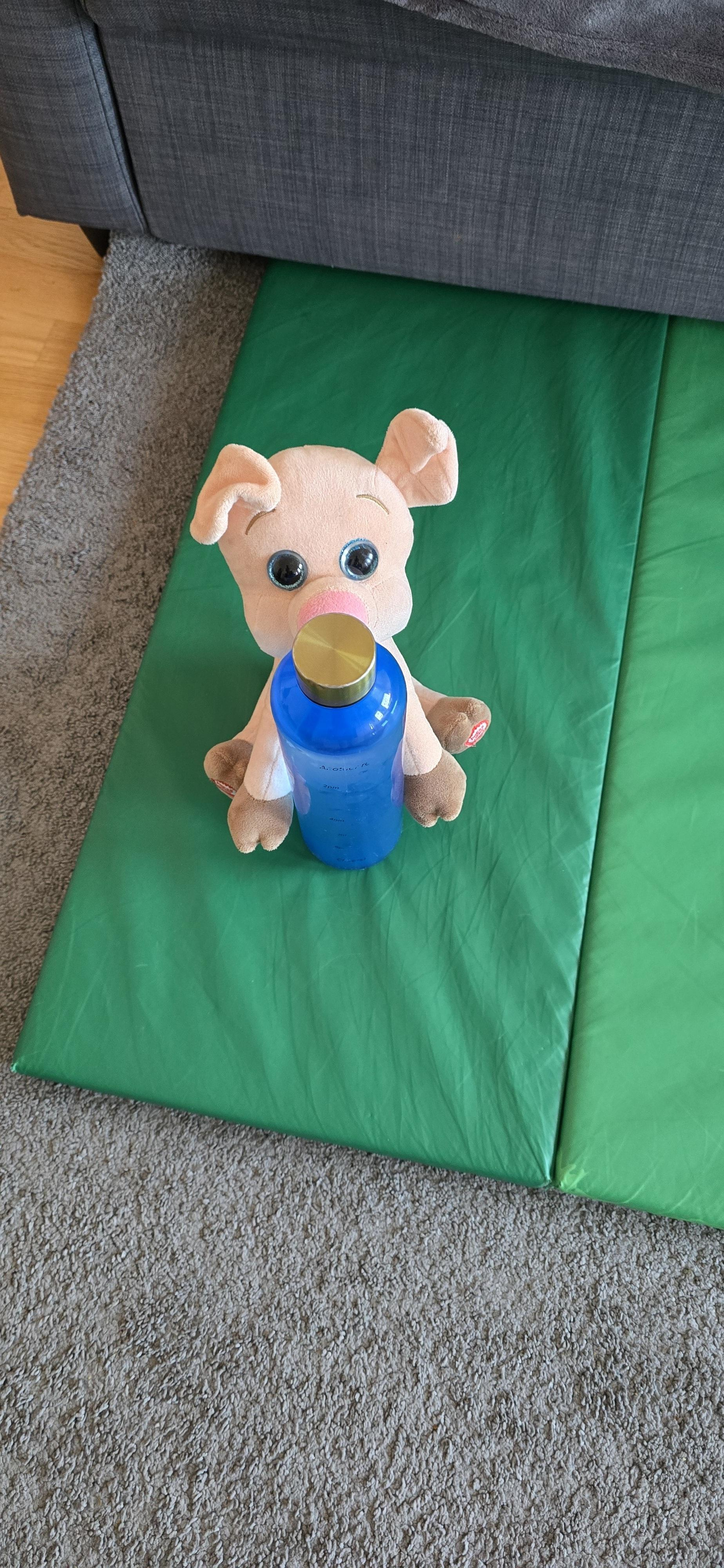bottle: (278, 611, 411, 900)
